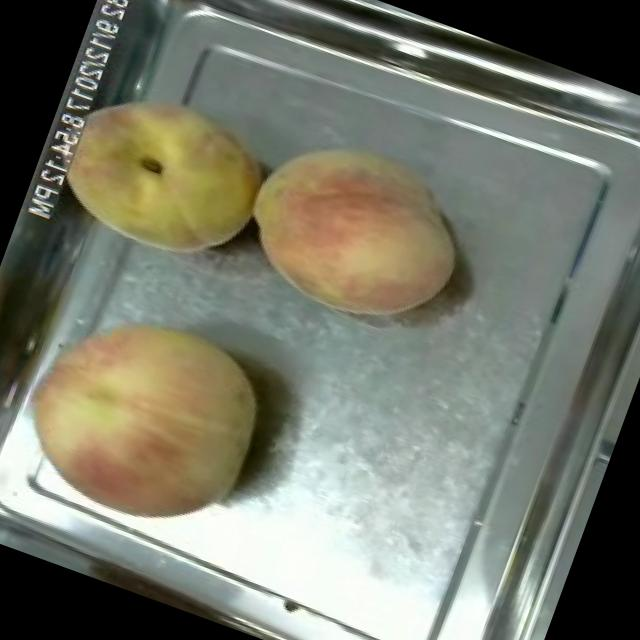Fruit: (0, 274, 293, 566), (218, 107, 492, 356), (31, 57, 290, 288)
